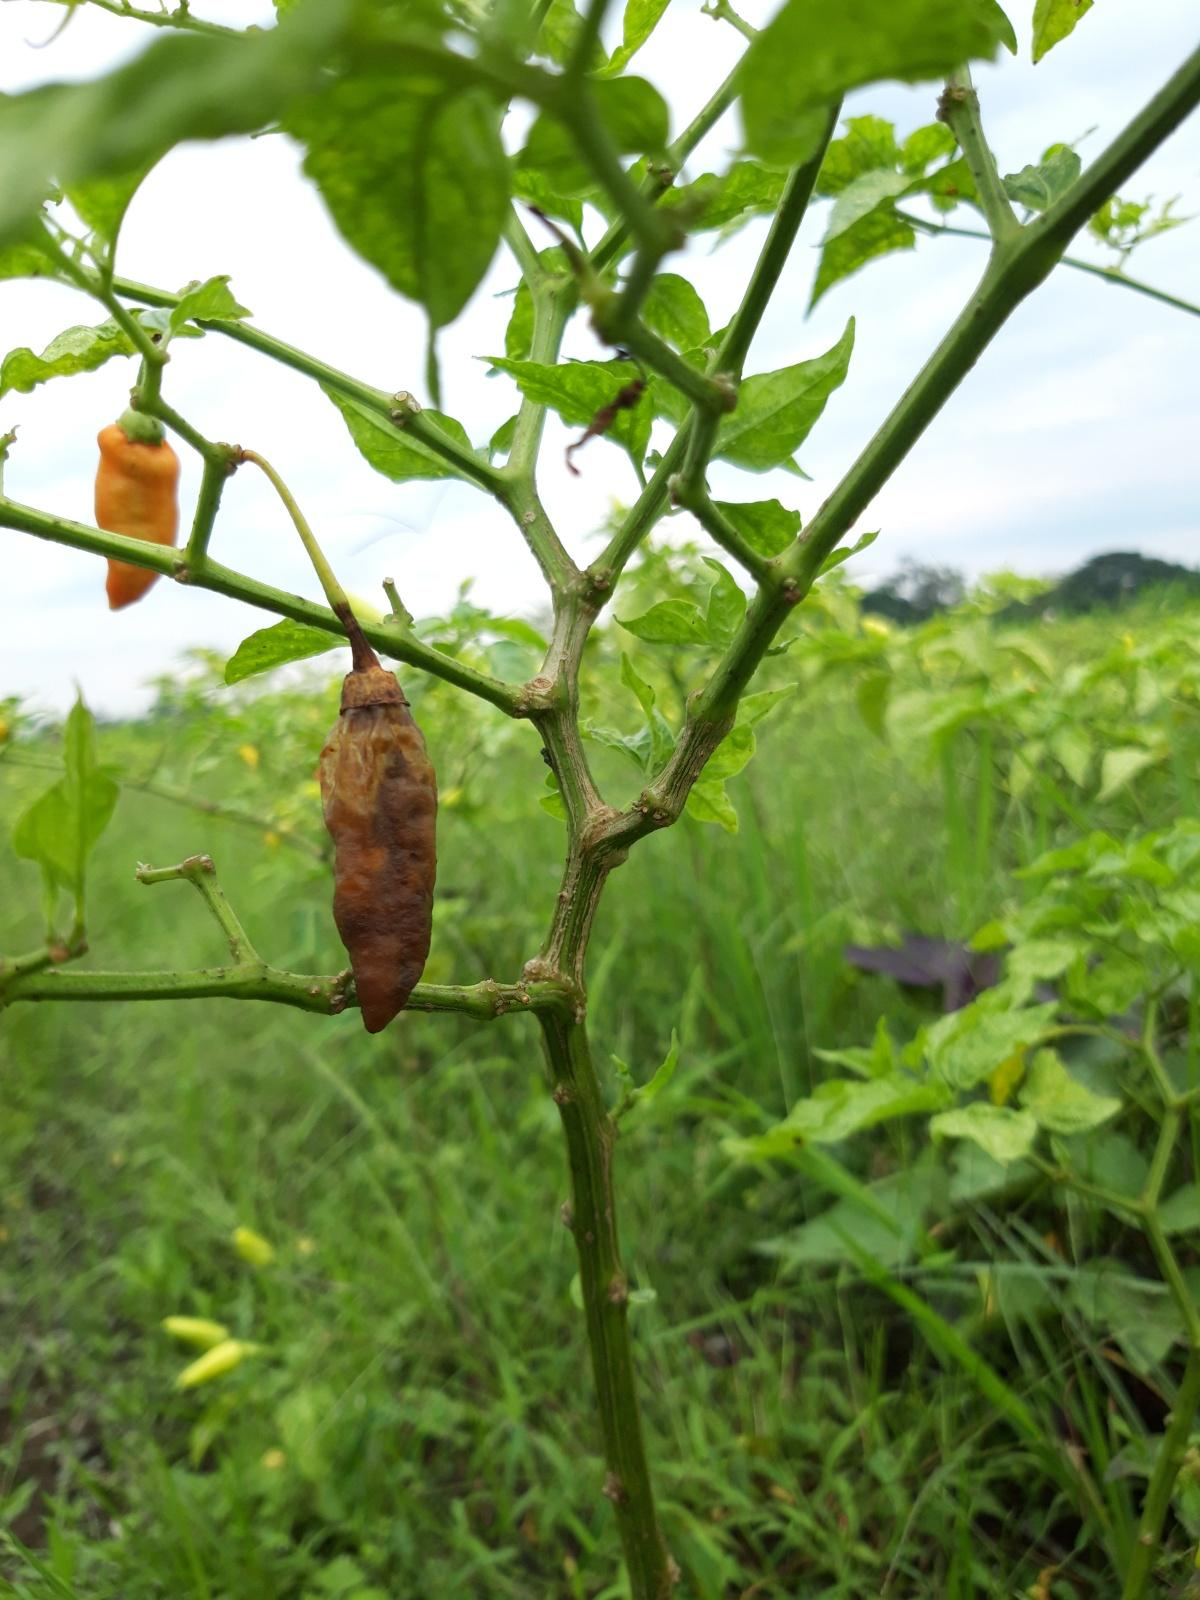cabai_normal: (89, 411, 183, 609)
lalat_buah: (316, 665, 440, 1038)
